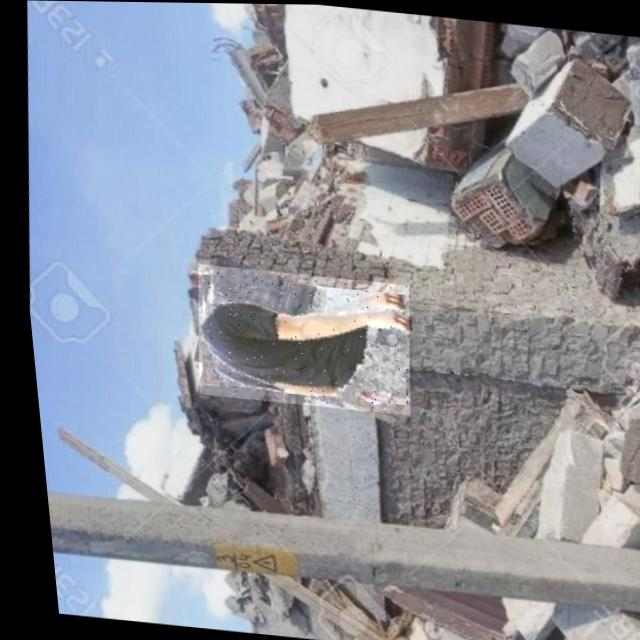Person in Rubble: (181, 262, 413, 413)
